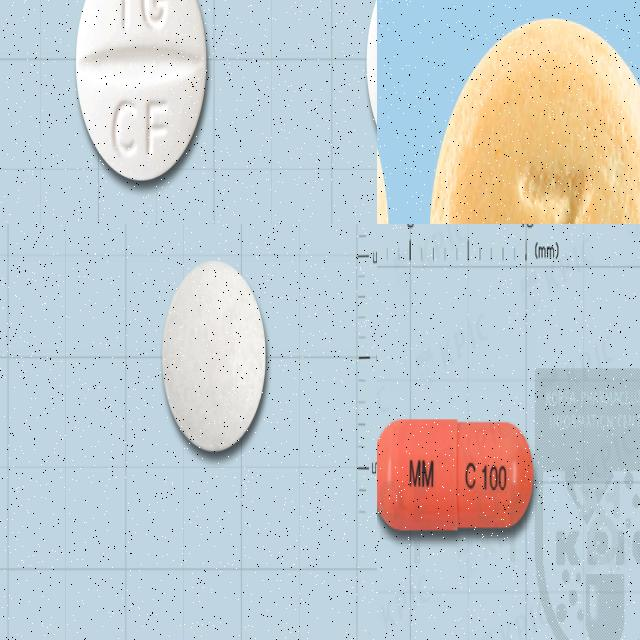Levopa: (429, 14, 640, 224)
Myungmoon Cefixime Cap: (377, 416, 534, 531)
Nofaxin Tab: (160, 259, 266, 456)
Tamiflu Cap: (75, 0, 207, 183)
